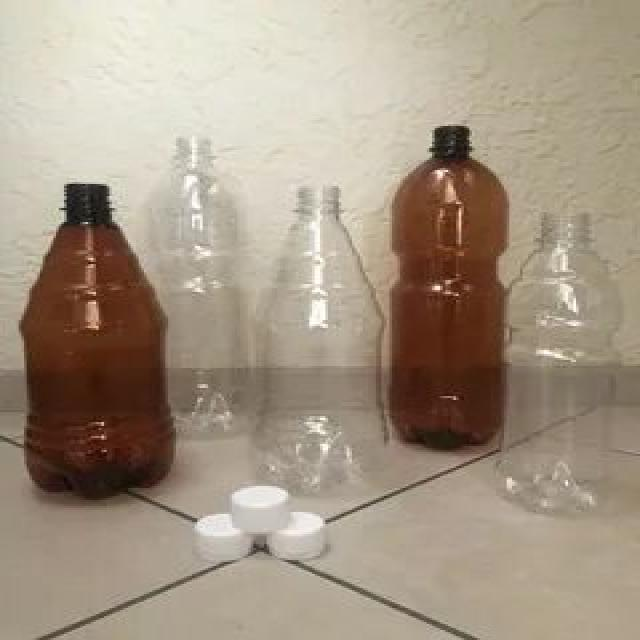brown: (22, 184, 169, 498), (393, 126, 507, 446)
